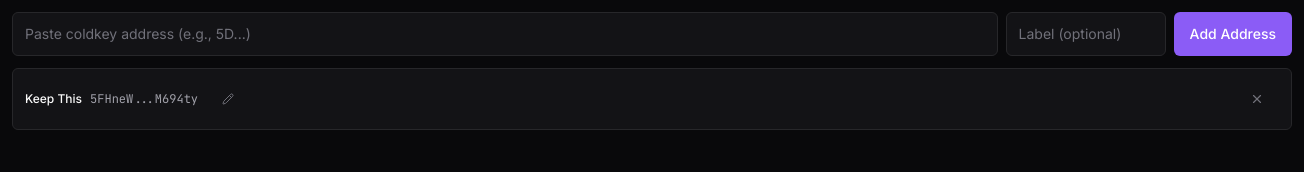
Scenario: AddressManager › cancels edit on Escape
Click the button named "edit label": {"x": 228, "y": 99} left=206, top=77, right=250, bottom=121
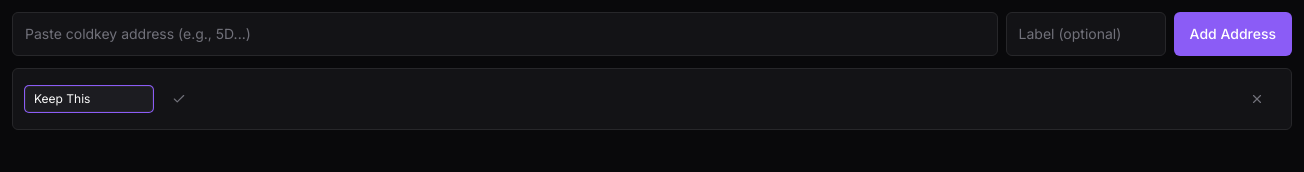
Replace the text in the field named "edit address label" with "Changed": {"x": 89, "y": 99} left=25, top=86, right=153, bottom=112
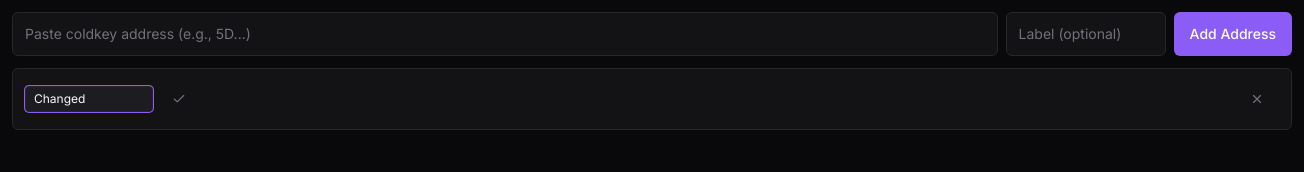
Press Escape in the field named "edit address label", box left=25, top=86, right=153, bottom=112
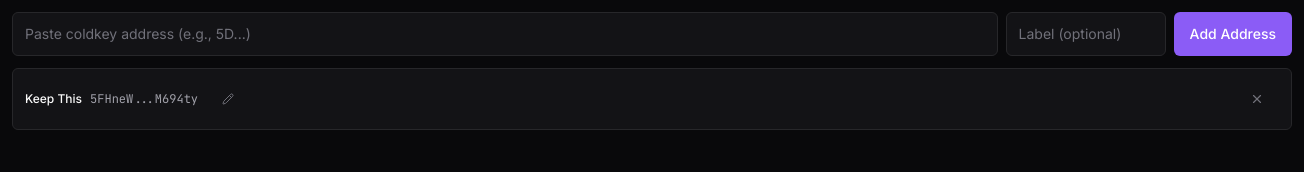
Expected: the text "Keep This" is shown, left=25, top=91, right=82, bottom=107
